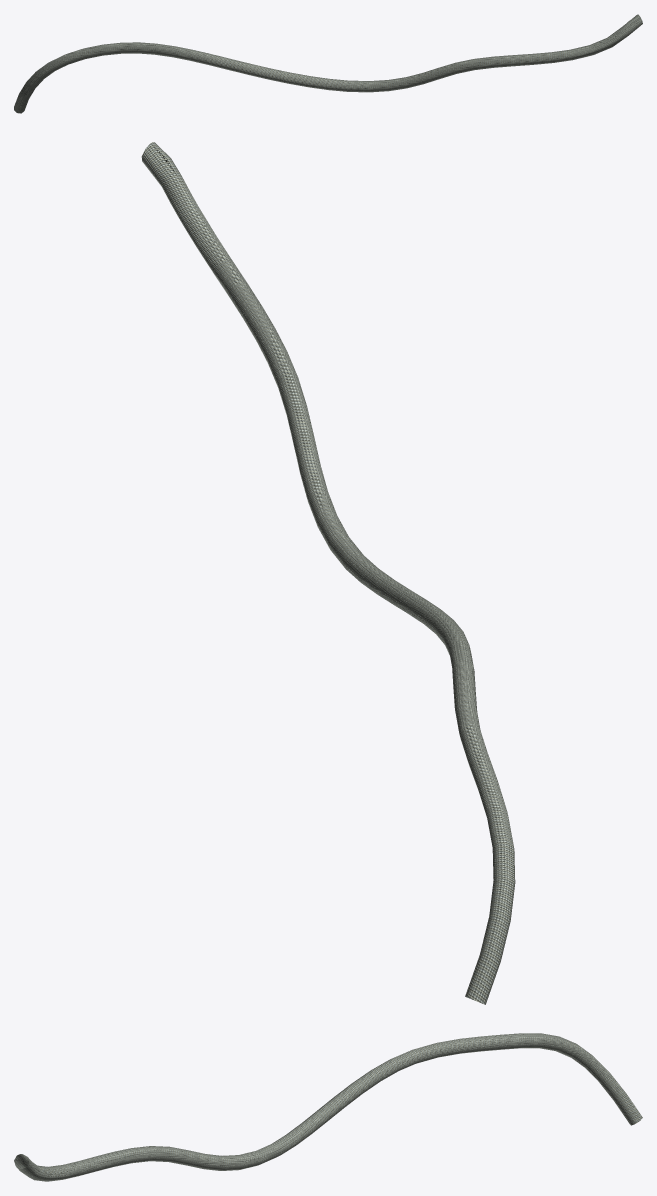
File: microtubule25.fbx
3 renders of one model, top to bottom at view 1: azimuth 30°, elevation 25°; view 2: azimuth 150°, elevation 25°; view 3: azimuth 270°, elevation 25°, orthographic. The views are drawn at different scales.
Visible parts, largest first — view 1: microtubule25; view 2: microtubule25; view 3: microtubule25.
Part boxes in pixels (x1,y1,x2,y2): microtubule25: [14, 14, 642, 113]; microtubule25: [141, 142, 515, 1004]; microtubule25: [14, 1033, 642, 1181].
Bounding box in the file's own units: 6058 × 2448 × 6139.
1 material, 1 textured.
